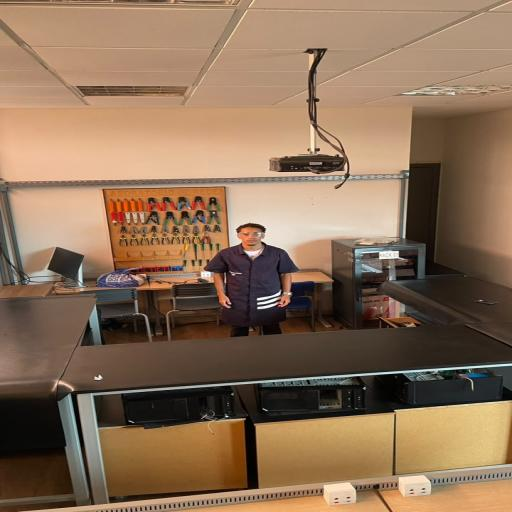OCULOS: (238, 232, 265, 237)
